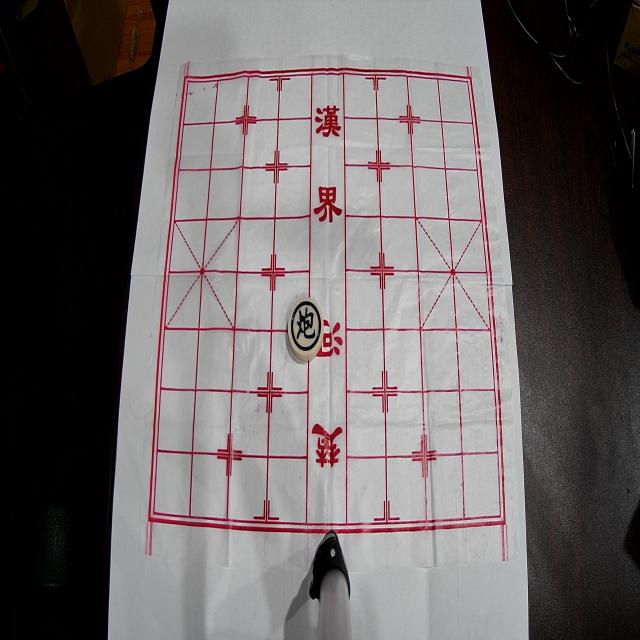black-cannon: (288, 298, 324, 360)
